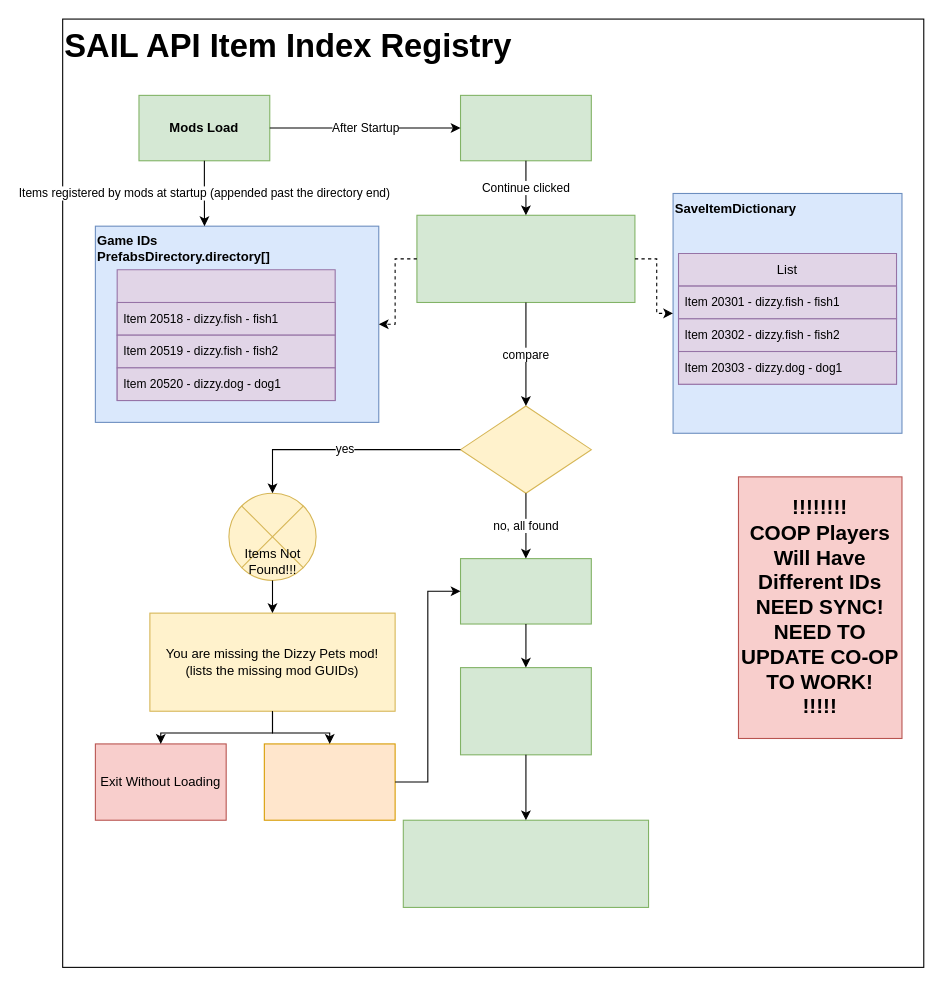
Some shapes in this 943 by 986 pixel diagram are drawn without their labels. Here are the shapes that lost their labels. From the top down, the box of each, then its label:
(459, 94, 591, 161): Load Game
(416, 214, 635, 302): Pre-check StartMenu.LoadGame prefix: read file, compare dictionaries
(116, 269, 335, 401): Game Dict
(459, 405, 591, 493): Items missing?
(459, 558, 591, 624): SAIL Overrides LoadNeeds()
(459, 667, 591, 755): Change saved item IDs 20301 to 20518, etc...
(263, 743, 395, 820): Clean Save A la NAND Save Cleaner (drops missing entries)
(402, 819, 649, 907): Open Load
